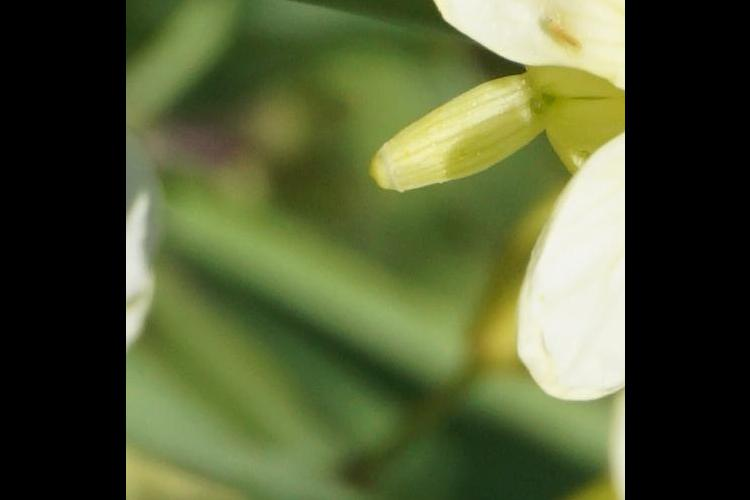white: (379, 1, 626, 412)
